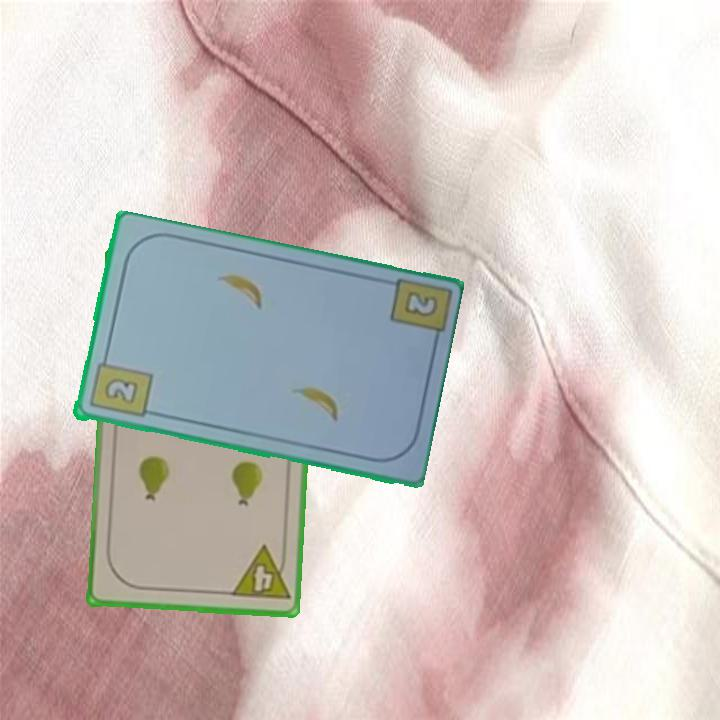2b: (85, 350, 154, 421), (399, 288, 441, 320)
4p: (227, 542, 293, 604)
